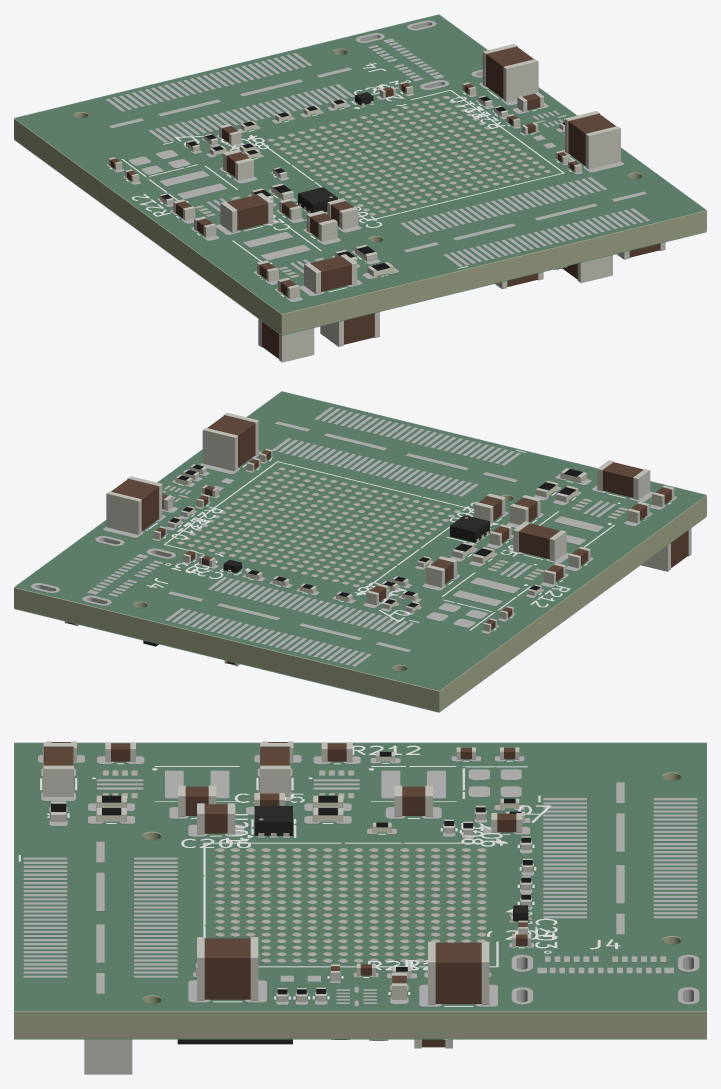
Rendered from usb-c.glb.
3 renders of one model, top to bottom at view 1: azimuth 30°, elevation 25°; view 2: azimuth 150°, elevation 25°; view 3: azimuth 270°, elevation 25°, orthographic. The views are drawn at different scales.
Visible parts, largest first — view 1: =>[0:1:1:33], =>[0:1:1:31], =>[0:1:1:28], =>[0:1:1:7] (×5), =>[0:1:1:17] (×2), =>[0:1:1:29], =>[0:1:1:13] (×3), =>[0:1:1:32], =>[0:1:1:19]; view 2: =>[0:1:1:33], =>[0:1:1:31], =>[0:1:1:28], =>[0:1:1:7] (×3), =>[0:1:1:17] (×2), =>[0:1:1:29], =>[0:1:1:13] (×3), =>[0:1:1:32], =>[0:1:1:19]; view 3: =>[0:1:1:31], =>[0:1:1:33], =>[0:1:1:28], =>[0:1:1:7] (×3), =>[0:1:1:29], =>[0:1:1:13] (×3), =>[0:1:1:17] (×2), =>[0:1:1:5] (×3), =>[0:1:1:32], =>[0:1:1:19], =>[0:1:1:25].
Part boxes in pixels (x1,y1,x2,y2): =>[0:1:1:33]: (14, 15, 706, 334); =>[0:1:1:31]: (14, 14, 706, 313); =>[0:1:1:28]: (105, 20, 649, 301); =>[0:1:1:7] (×5): (258, 44, 620, 362); =>[0:1:1:17] (×2): (220, 193, 357, 293); =>[0:1:1:29]: (109, 63, 573, 296); =>[0:1:1:13] (×3): (223, 149, 358, 241); =>[0:1:1:32]: (14, 140, 706, 335); =>[0:1:1:19]: (298, 187, 337, 213); =>[0:1:1:33]: (14, 392, 706, 711); =>[0:1:1:31]: (14, 391, 706, 690); =>[0:1:1:28]: (31, 407, 676, 666); =>[0:1:1:7] (×3): (106, 412, 691, 571); =>[0:1:1:17] (×2): (513, 460, 650, 561); =>[0:1:1:29]: (146, 450, 671, 630); =>[0:1:1:13] (×3): (426, 493, 540, 587); =>[0:1:1:32]: (14, 516, 706, 712); =>[0:1:1:19]: (450, 515, 489, 542); =>[0:1:1:31]: (14, 742, 706, 1011); =>[0:1:1:33]: (14, 744, 706, 1038); =>[0:1:1:28]: (23, 755, 699, 1006); =>[0:1:1:7] (×3): (84, 937, 489, 1074); =>[0:1:1:29]: (18, 745, 620, 1006); =>[0:1:1:13] (×3): (178, 785, 432, 834); =>[0:1:1:17] (×2): (43, 743, 290, 796); =>[0:1:1:5] (×3): (105, 742, 522, 832); =>[0:1:1:32]: (14, 1038, 706, 1039); =>[0:1:1:19]: (254, 806, 292, 836); =>[0:1:1:25]: (177, 1039, 292, 1044).
Size of the model in its own units: 0.033 by 0.00669 by 0.036.
